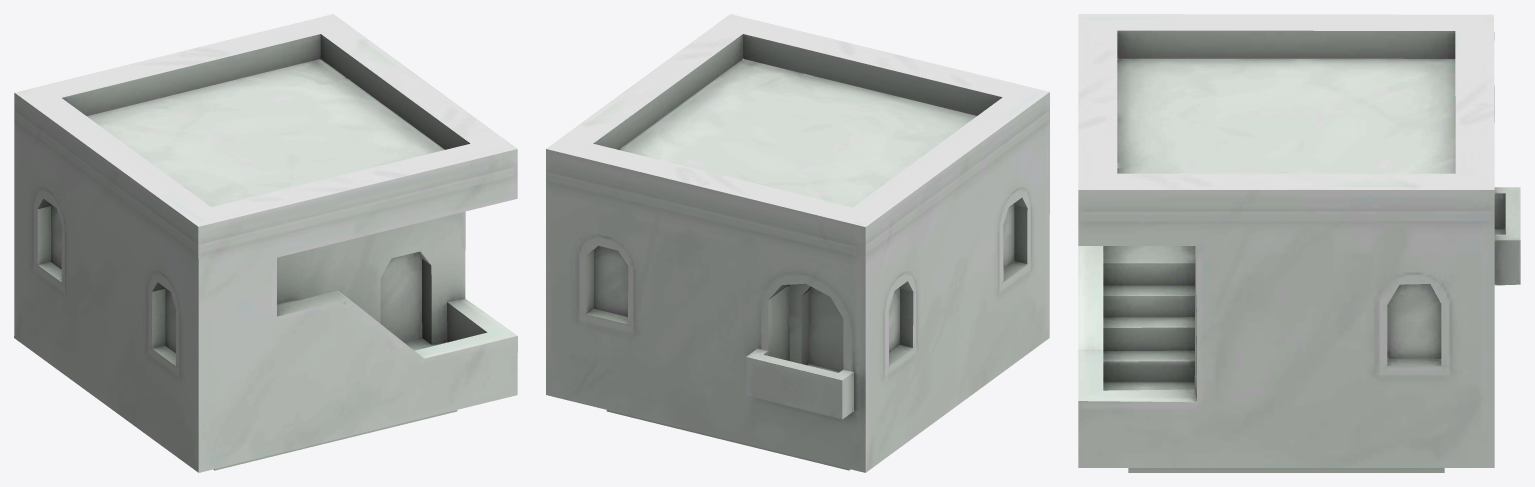
File: BuildingBlock02.obj
3 views of the same model, side by side, from view 1: azimuth 30°, elevation 25°; view 2: azimuth 150°, elevation 25°; view 3: azimuth 270°, elevation 25° (orthographic). The views are drawn at different scales.
Parts seen in each view (by area): view 1: BuildingBlock02.001; view 2: BuildingBlock02.001; view 3: BuildingBlock02.001.
Part boxes in pixels (<box>): BuildingBlock02.001: <box>14,14,517,472</box>; BuildingBlock02.001: <box>546,14,1049,472</box>; BuildingBlock02.001: <box>1078,14,1520,472</box>.
Bounding box in the file's own units: 1.72 × 1.39 × 1.83.
Materials: 1 (1 with a texture image).
